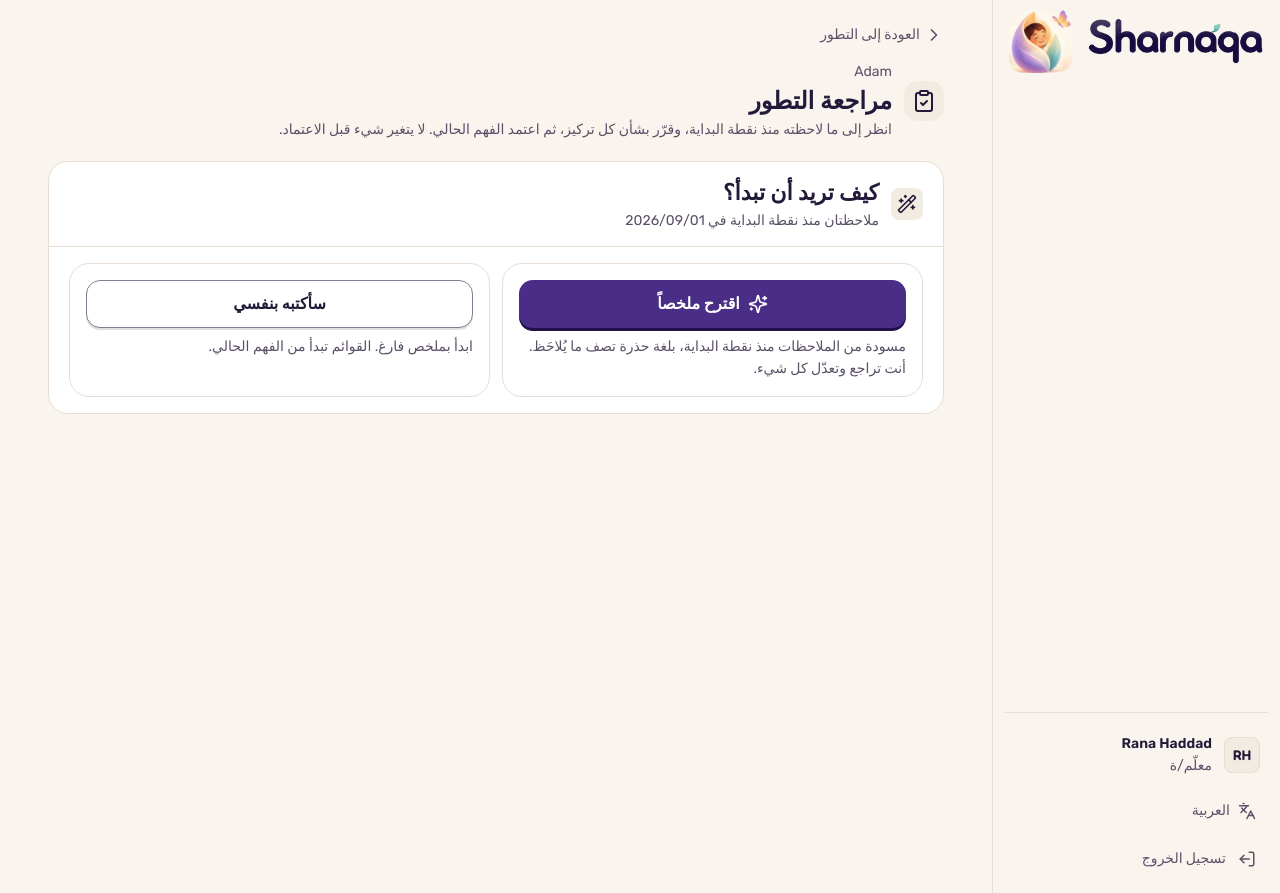
Test: Development tab: understanding over time, summary, original baseline › renders the review follow-up in Arabic
The width and height of the screenshot is (1280, 893).
Click the button "سأكتبه بنفسي". click: click(280, 304)
box: [86,280,473,328]
(page scrolled)
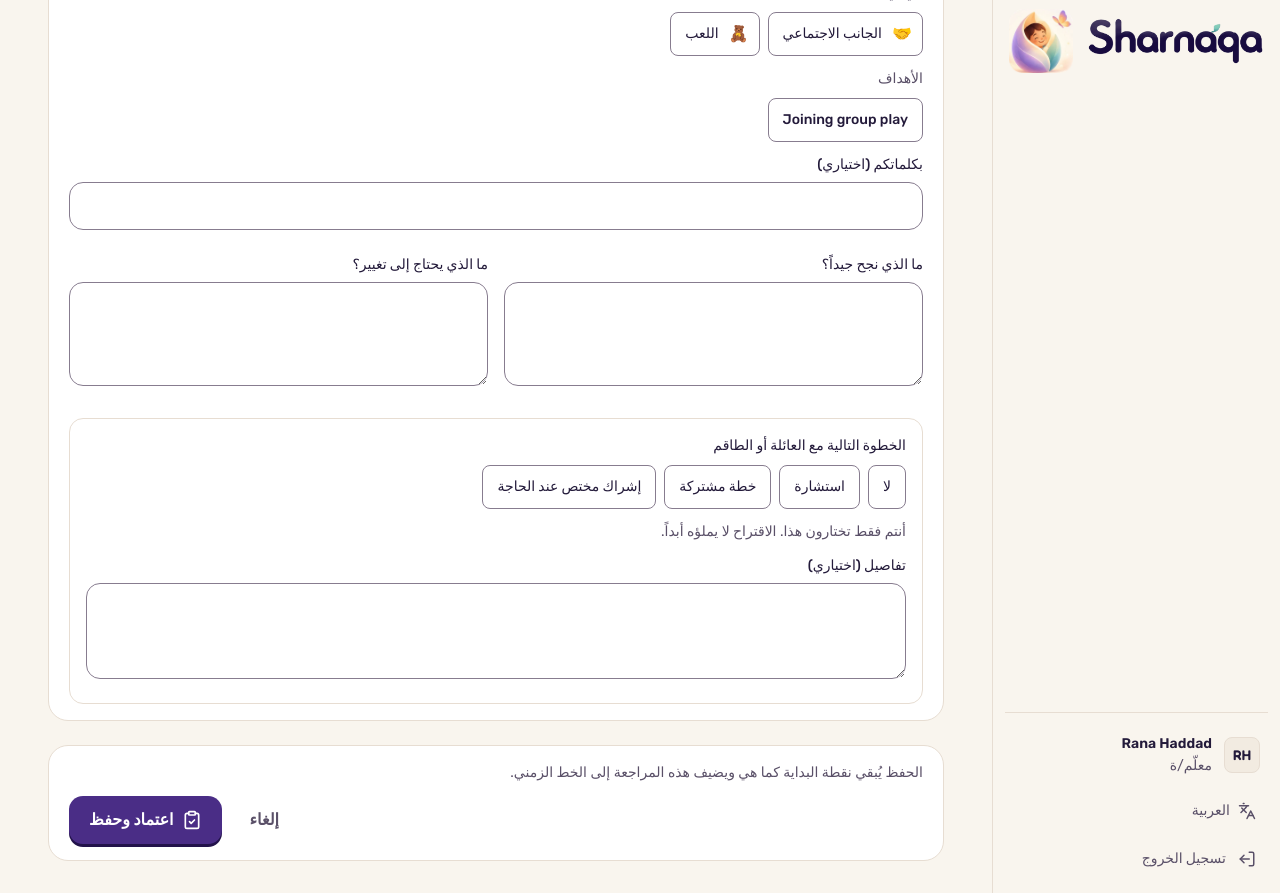
Now the text "إشراك مختص عند الحاجة" is shown, box [498,476,641,498]
